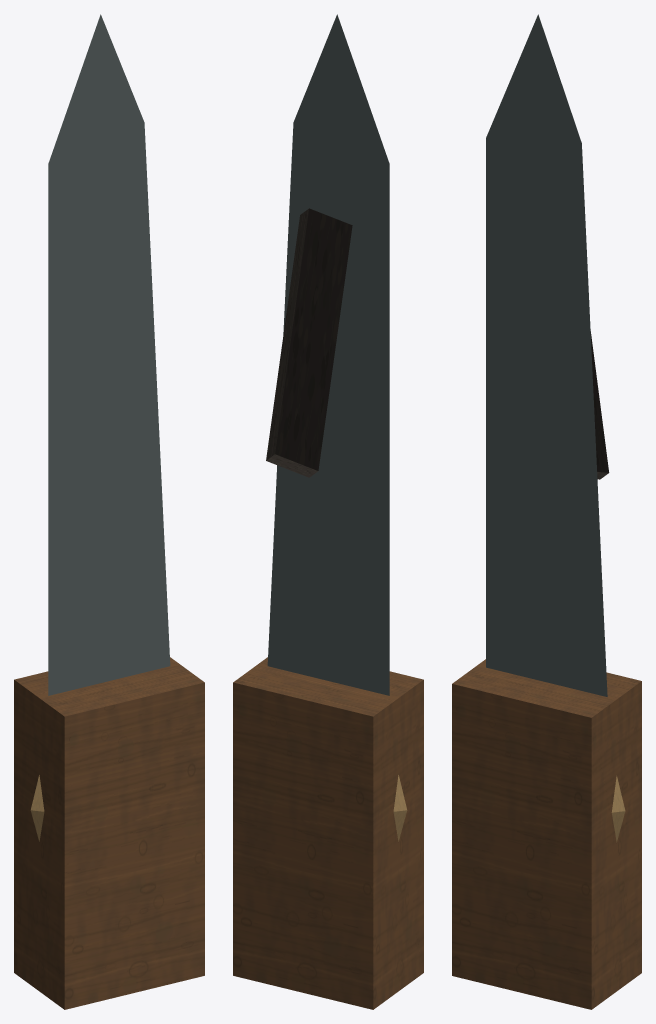
File: pr-018_knife_cutting_tool__worn.obj
The picture shows the model from 3 angles, left to right: view 1: azimuth 30°, elevation 25°; view 2: azimuth 150°, elevation 25°; view 3: azimuth 330°, elevation 25°; orthographic projection.
Visible parts, largest first — view 1: pr-018_knife_cutting_tool__worn; view 2: pr-018_knife_cutting_tool__worn; view 3: pr-018_knife_cutting_tool__worn.
Boxes of the visible parts, x1,y1,x2,y2 form: pr-018_knife_cutting_tool__worn: (14, 14, 204, 1009); pr-018_knife_cutting_tool__worn: (233, 14, 423, 1009); pr-018_knife_cutting_tool__worn: (452, 14, 641, 1009).
Bounding box in the file's own units: 0.18 × 1.05 × 0.1.
Materials: 4 (4 with a texture image).
